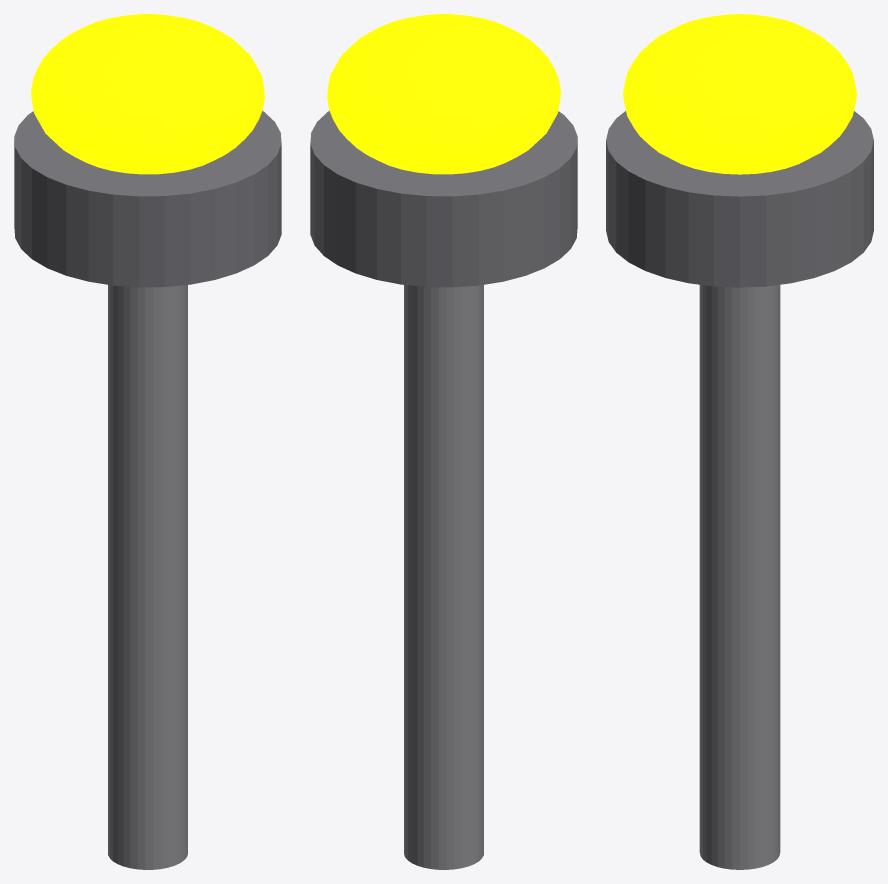
File: warning_beacon.fbx
3 renders of one model, left to right at view 1: azimuth 30°, elevation 25°; view 2: azimuth 150°, elevation 25°; view 3: azimuth 270°, elevation 25°, orthographic.
Visible parts, largest first — view 1: Cylinder, Cylinder.001, Sphere; view 2: Cylinder, Cylinder.001, Sphere; view 3: Cylinder, Cylinder.001, Sphere.
Boxes of the visible parts, box(x1,y1,x2,y2) form: Cylinder: box(108, 285, 187, 869); Cylinder.001: box(14, 111, 281, 287); Sphere: box(31, 14, 264, 174); Cylinder: box(404, 285, 483, 869); Cylinder.001: box(310, 111, 577, 287); Sphere: box(327, 14, 560, 174); Cylinder: box(699, 284, 780, 869); Cylinder.001: box(606, 111, 873, 287); Sphere: box(623, 14, 856, 174).
Bounding box in the file's own units: 80 × 271 × 80.
